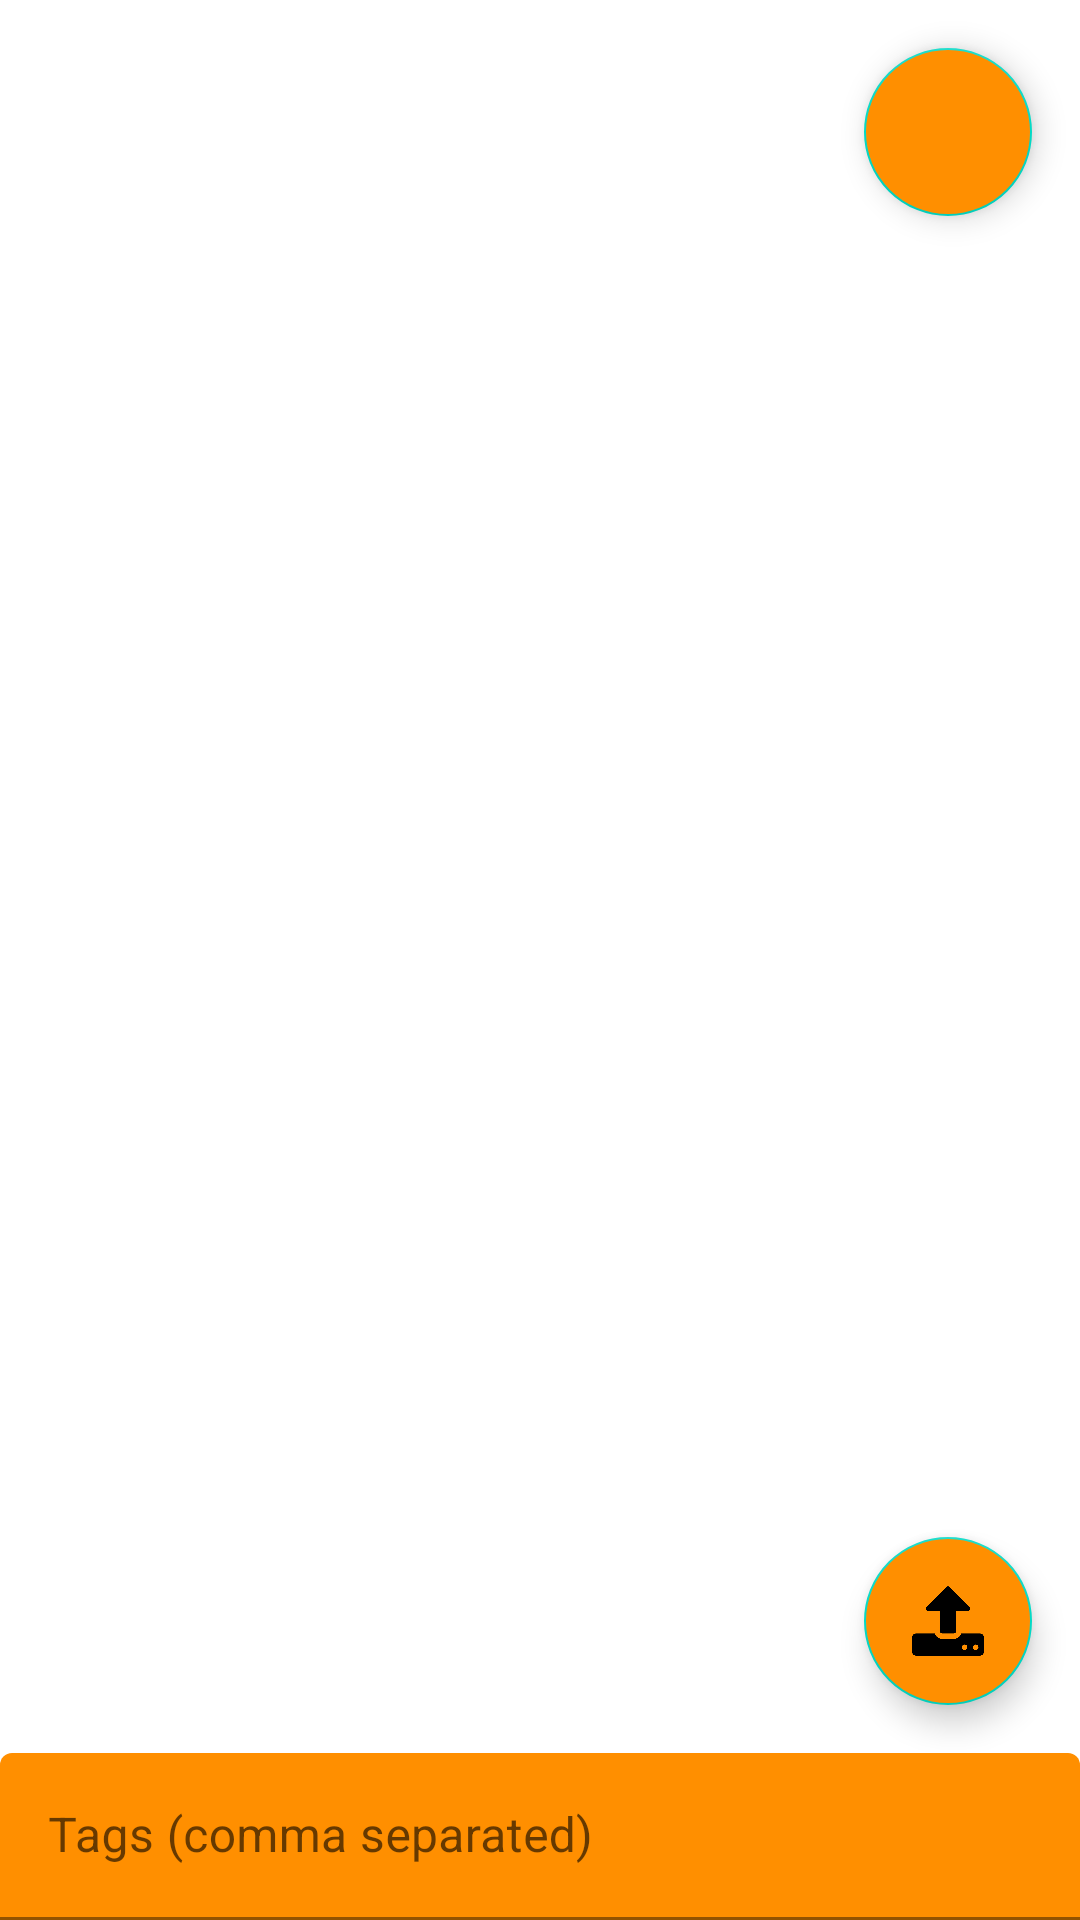

Icon bounding boxes for this 1080 x 1920 phone screenshot, format detection(x1, y1, x2, y2):
upload: detection(864, 1537, 1032, 1705)
